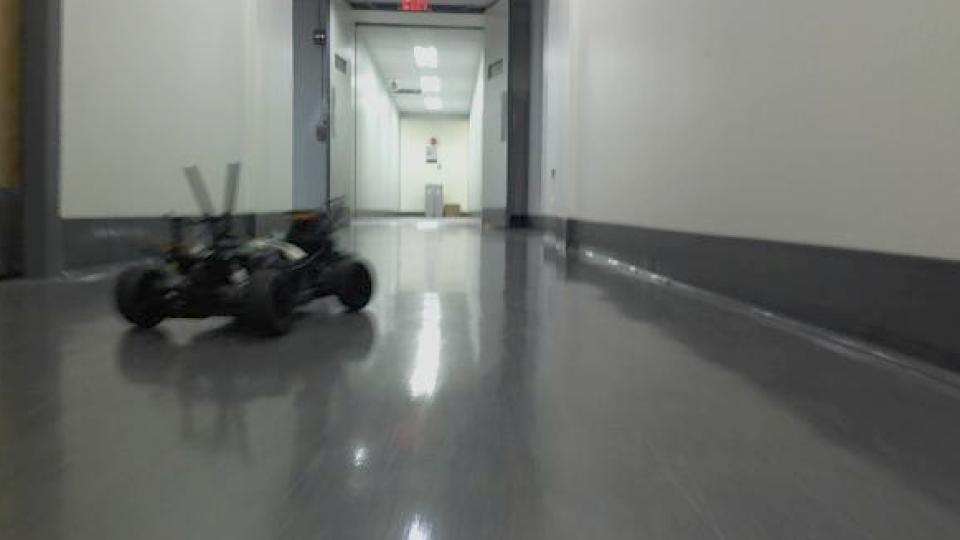car: (109, 159, 378, 341)
